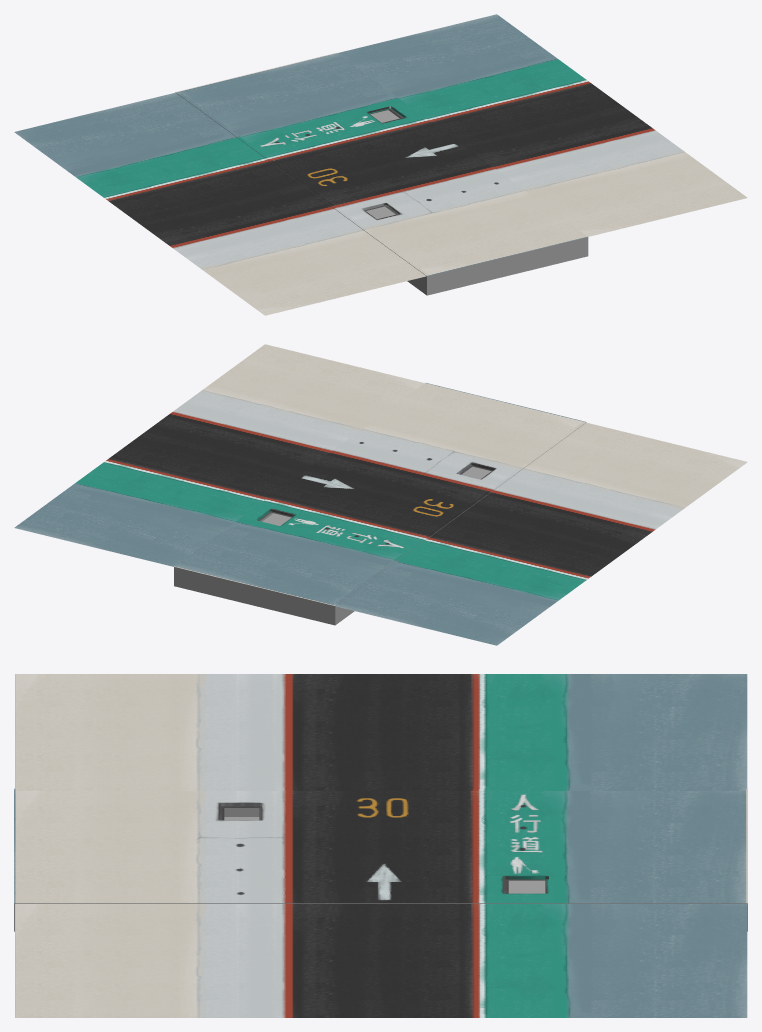
Rendered from ground3.fbx.
3 renders of one model, top to bottom at view 1: azimuth 30°, elevation 25°; view 2: azimuth 150°, elevation 25°; view 3: azimuth 270°, elevation 25°, orthographic. The views are drawn at different scales.
Visible parts, largest first — view 1: pCube1, pPlane2, pPlane1; view 2: pCube1, pPlane2, pPlane1; view 3: pCube1, pPlane2, pPlane1.
Part boxes in pixels (bbox=[...]): pCube1: bbox=[175, 53, 588, 295]; pPlane2: bbox=[14, 92, 425, 315]; pPlane1: bbox=[337, 14, 747, 236]; pCube1: bbox=[174, 382, 586, 625]; pPlane2: bbox=[336, 422, 747, 645]; pPlane1: bbox=[14, 344, 424, 566]; pCube1: bbox=[14, 788, 747, 931]; pPlane2: bbox=[15, 674, 747, 788]; pPlane1: bbox=[15, 904, 747, 1017].
Bounding box in the file's own units: 12.14 × 0.4664 × 10.96.
4 materials, 3 textured.
